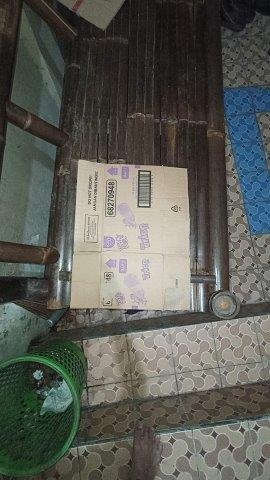kardus: (71, 161, 190, 308)
